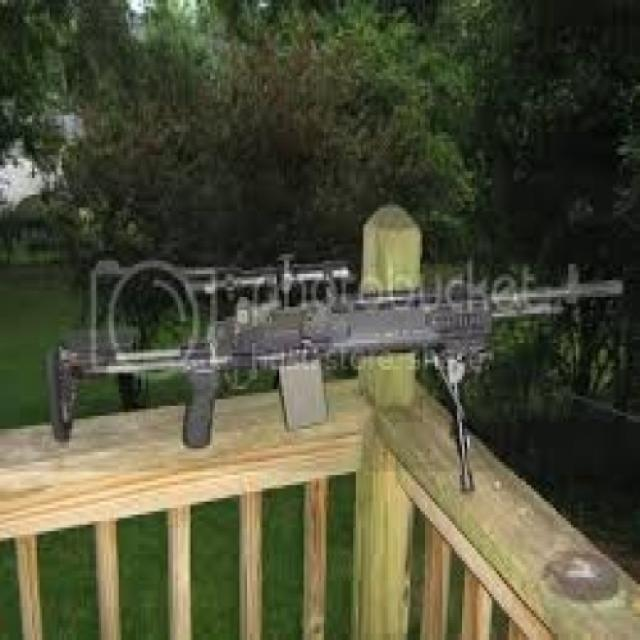Gun: (64, 232, 640, 492)
